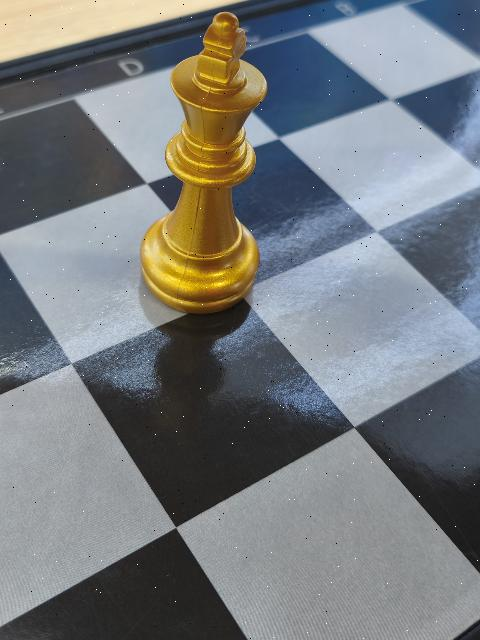black_king: (138, 10, 268, 312)
